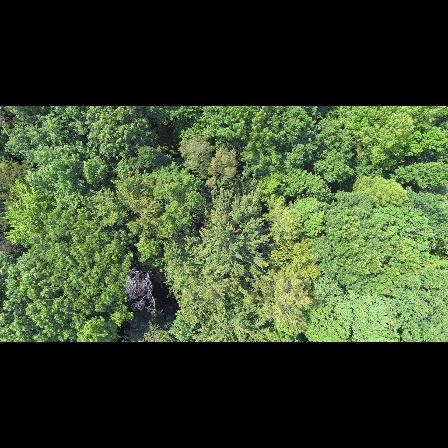Dead: (120, 266, 159, 317)
